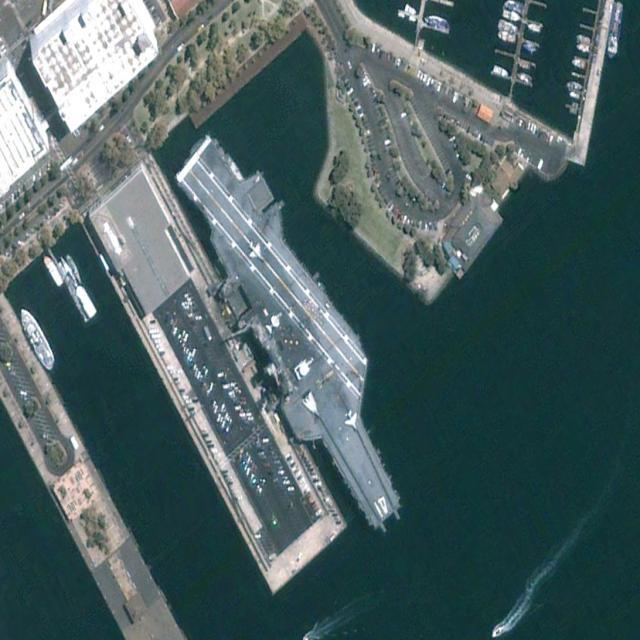Aircraft Carrier: (155, 106, 434, 549)
Other Ship: (15, 301, 59, 375)
